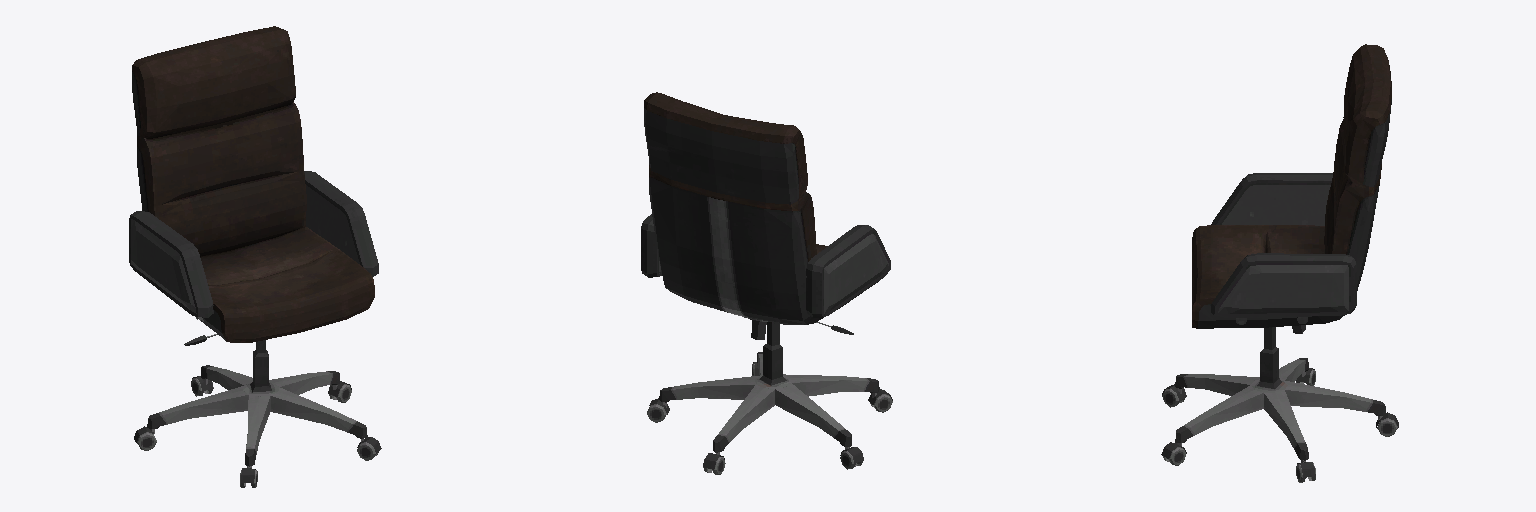
3 views of the same model, side by side, from view 1: azimuth 30°, elevation 25°; view 2: azimuth 150°, elevation 25°; view 3: azimuth 270°, elevation 25° (orthographic).
Parts seen in each view (by area): view 1: g0; view 2: g0; view 3: g0.
Part boxes in pixels (left/top/right/bottom): g0: left=129, top=26, right=381, bottom=487; g0: left=641, top=92, right=892, bottom=474; g0: left=1161, top=44, right=1398, bottom=482.
Size of the model in its own units: 4.17 by 6.58 by 3.97.
1 materials, 1 textured.